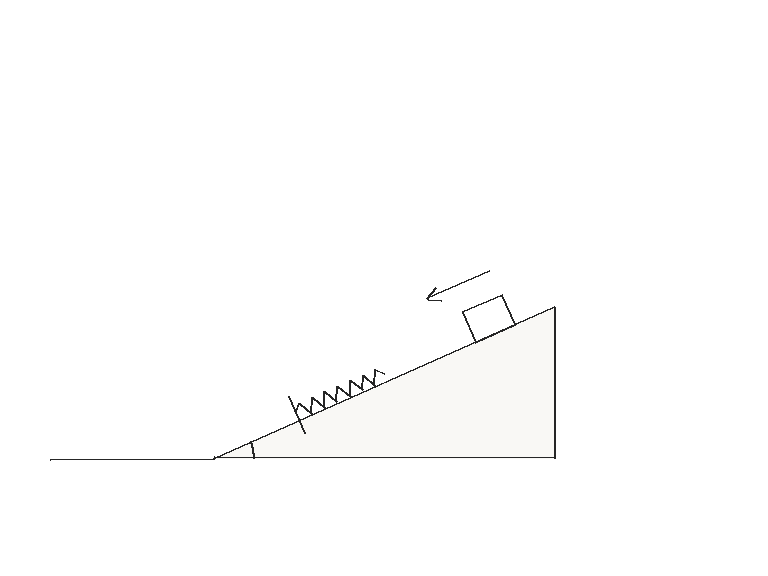block: (460, 292, 517, 344)
ramp: (212, 304, 557, 460)
spring: (294, 367, 386, 415)
